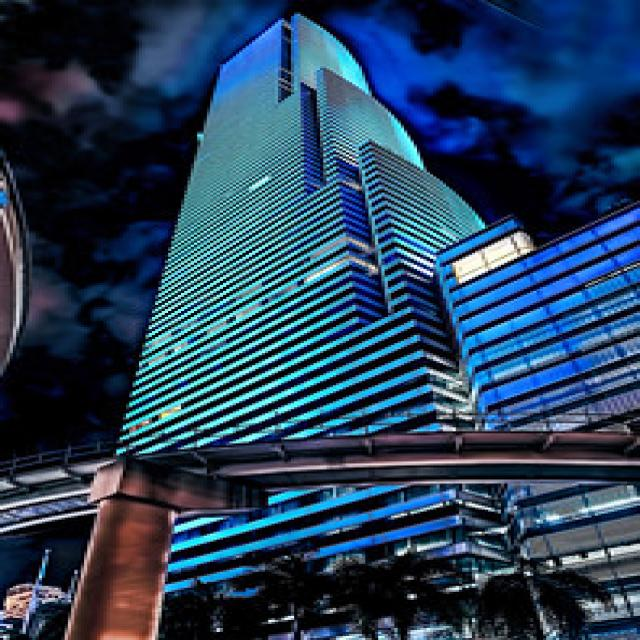Normal_building: (74, 12, 527, 640)
